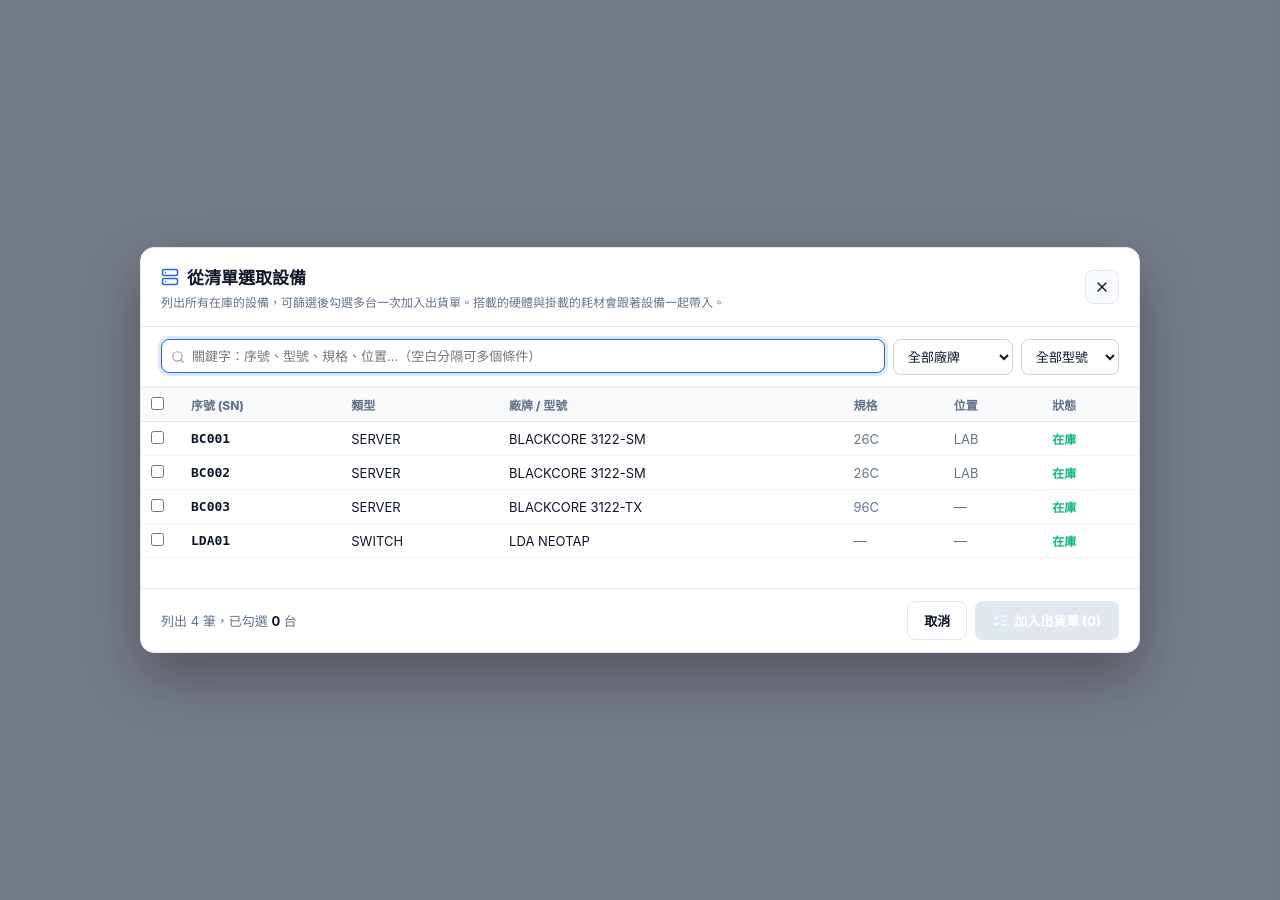
it: 勾選視窗本身 › 關鍵字可用空白分隔多個條件
Type "server 96c" into the field named "搜尋". click: (523, 356)
box: [161, 339, 885, 373]
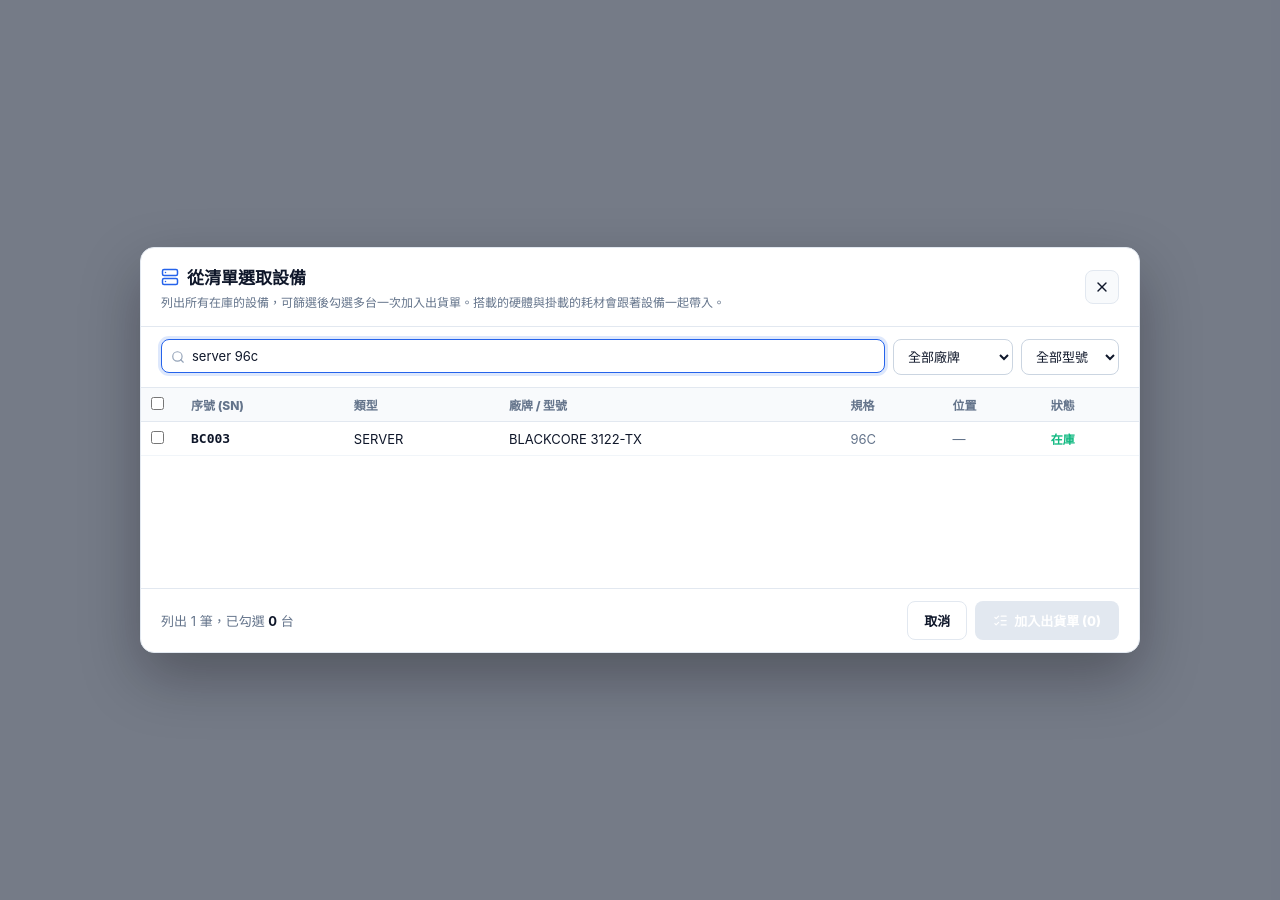
Expected: the row with test id "picker-row-BC003" is shown, [141, 422, 1139, 456]
Expected: the row with test id "picker-row-BC001" is gone
